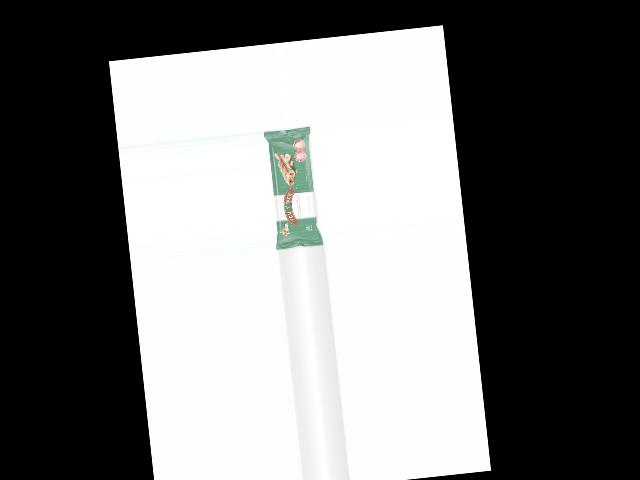chocolate: (263, 125, 325, 251)
